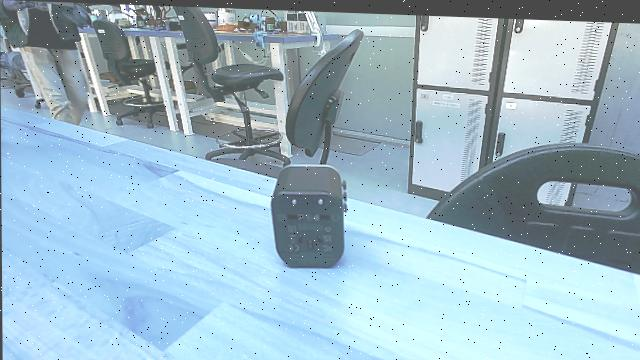adapter: (266, 159, 350, 271)
